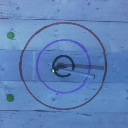Axe Tip: (56, 64, 68, 68)
